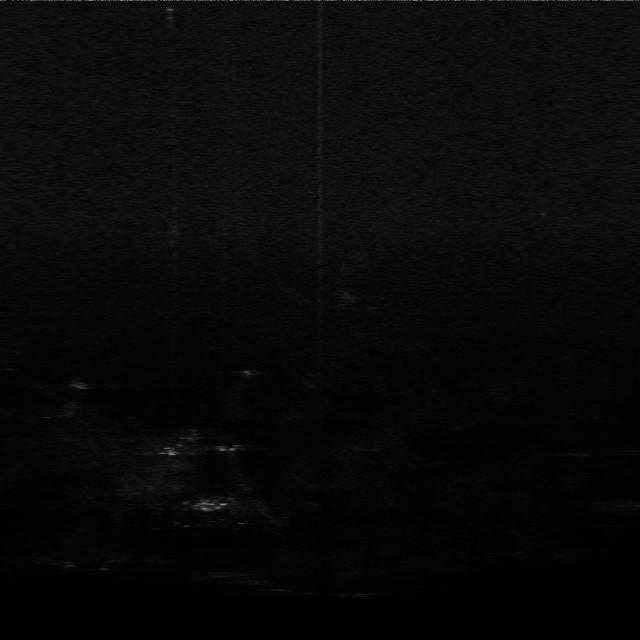rov: (183, 496, 238, 517)
